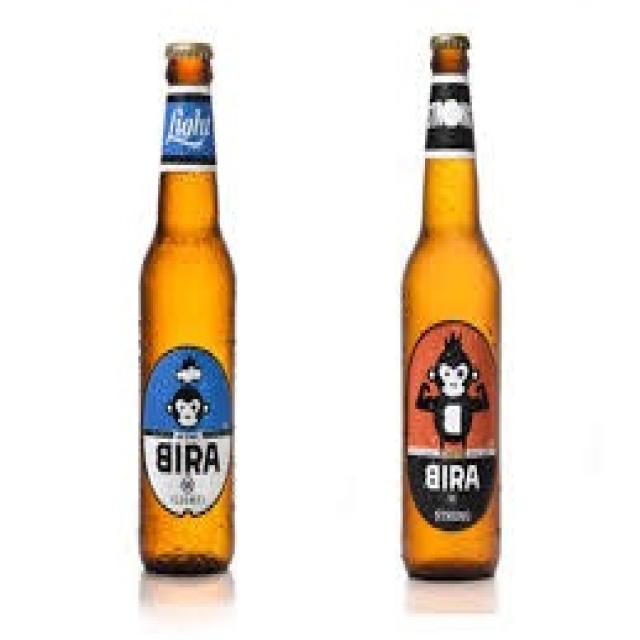bottle: (120, 16, 276, 627), (384, 11, 526, 617)
